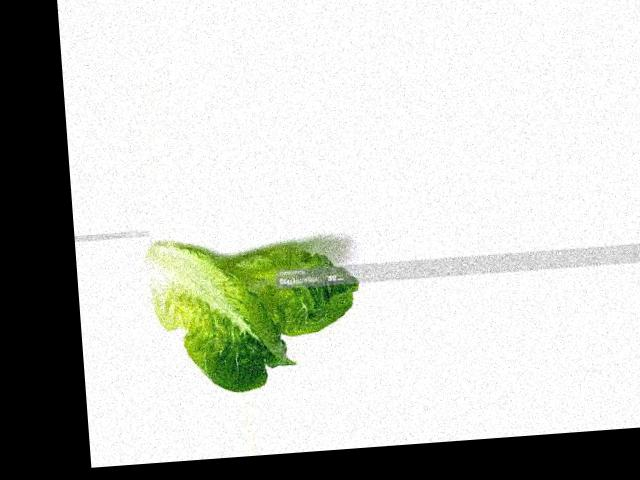lettuce: (152, 231, 319, 365)
